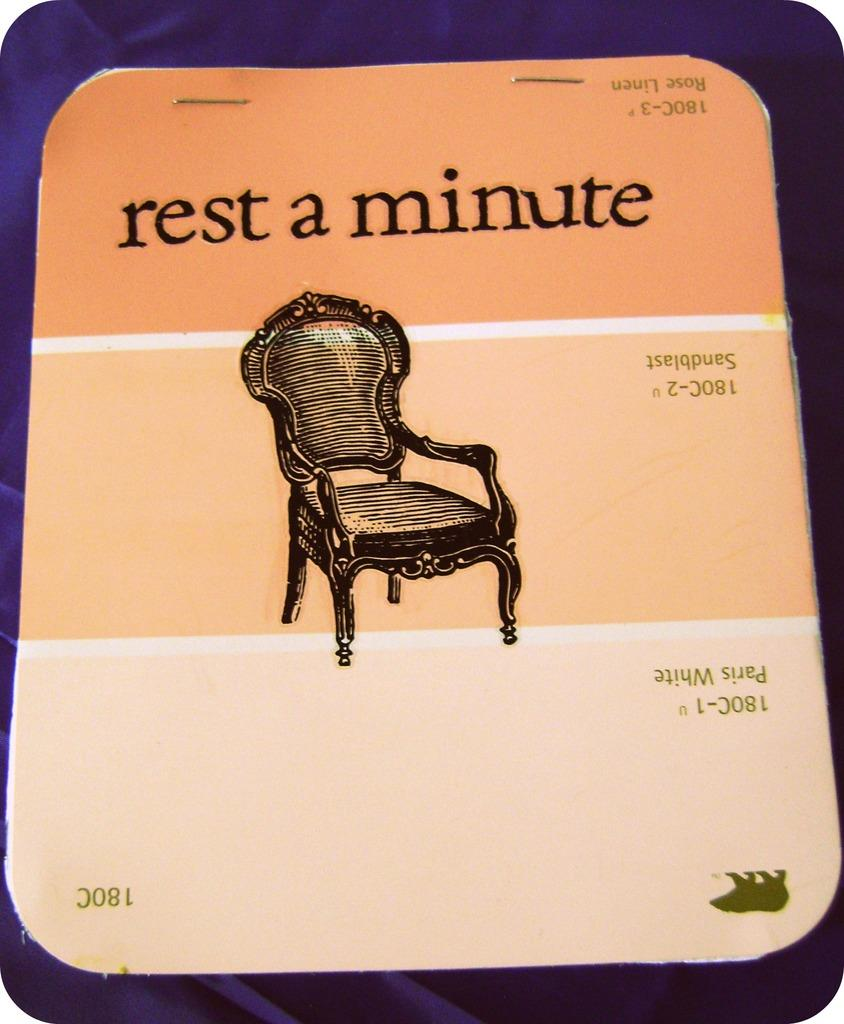Chair: (243, 305, 531, 669)
